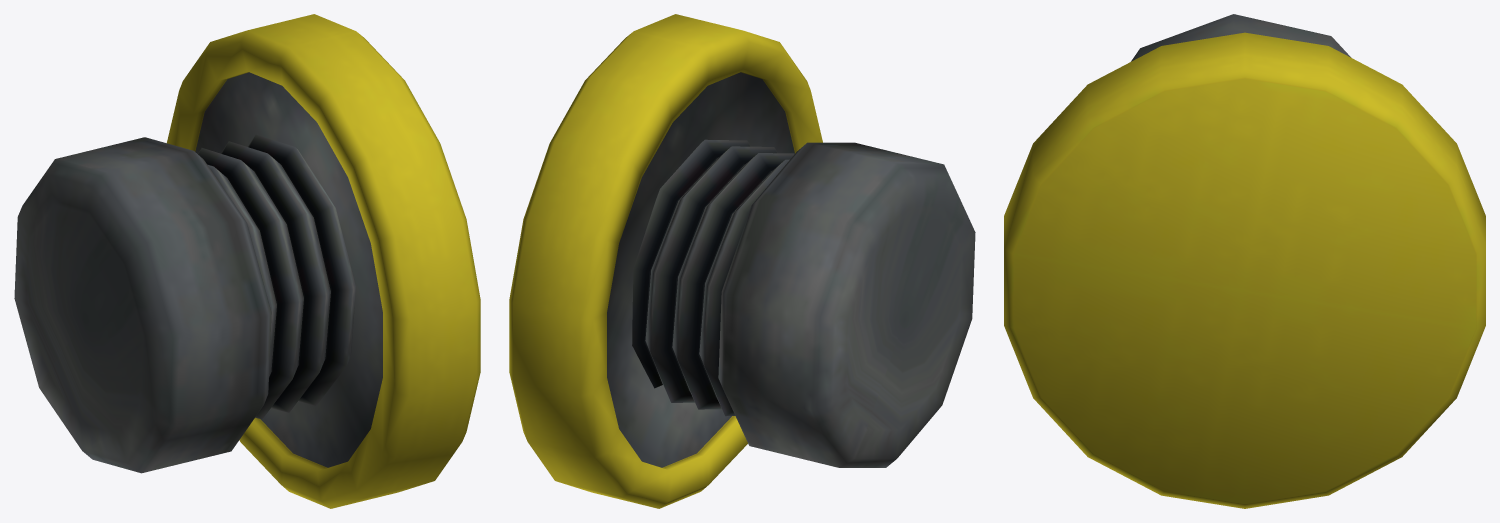
Rendered from SpringYellow.obj.
The picture shows the model from 3 angles, left to right: view 1: azimuth 30°, elevation 25°; view 2: azimuth 150°, elevation 25°; view 3: azimuth 270°, elevation 25°; orthographic projection.
Bounding box in the file's own units: 1.32 × 2 × 1.97.
Materials: 1 (1 with a texture image).
